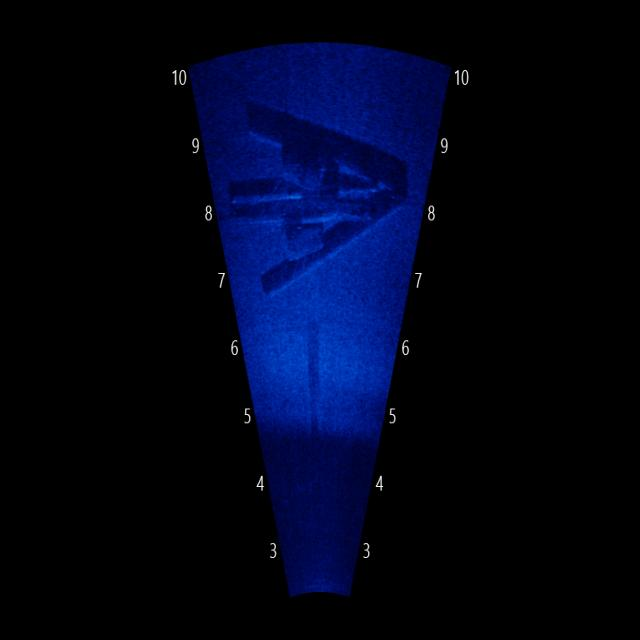triangle: (234, 99, 408, 298)
